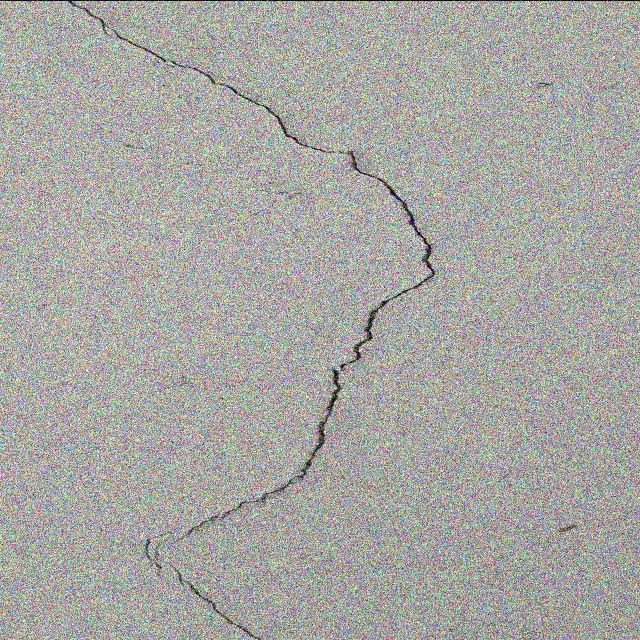SurfaceCrack: (3, 0, 457, 639)
